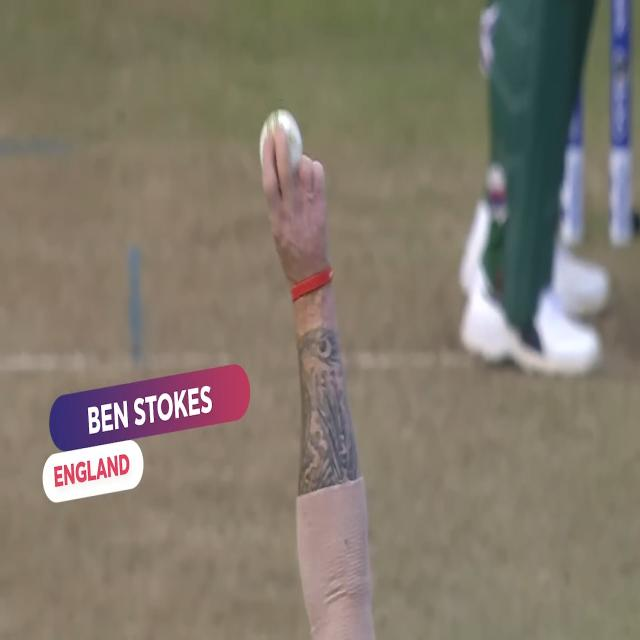ball: (256, 93, 307, 182)
